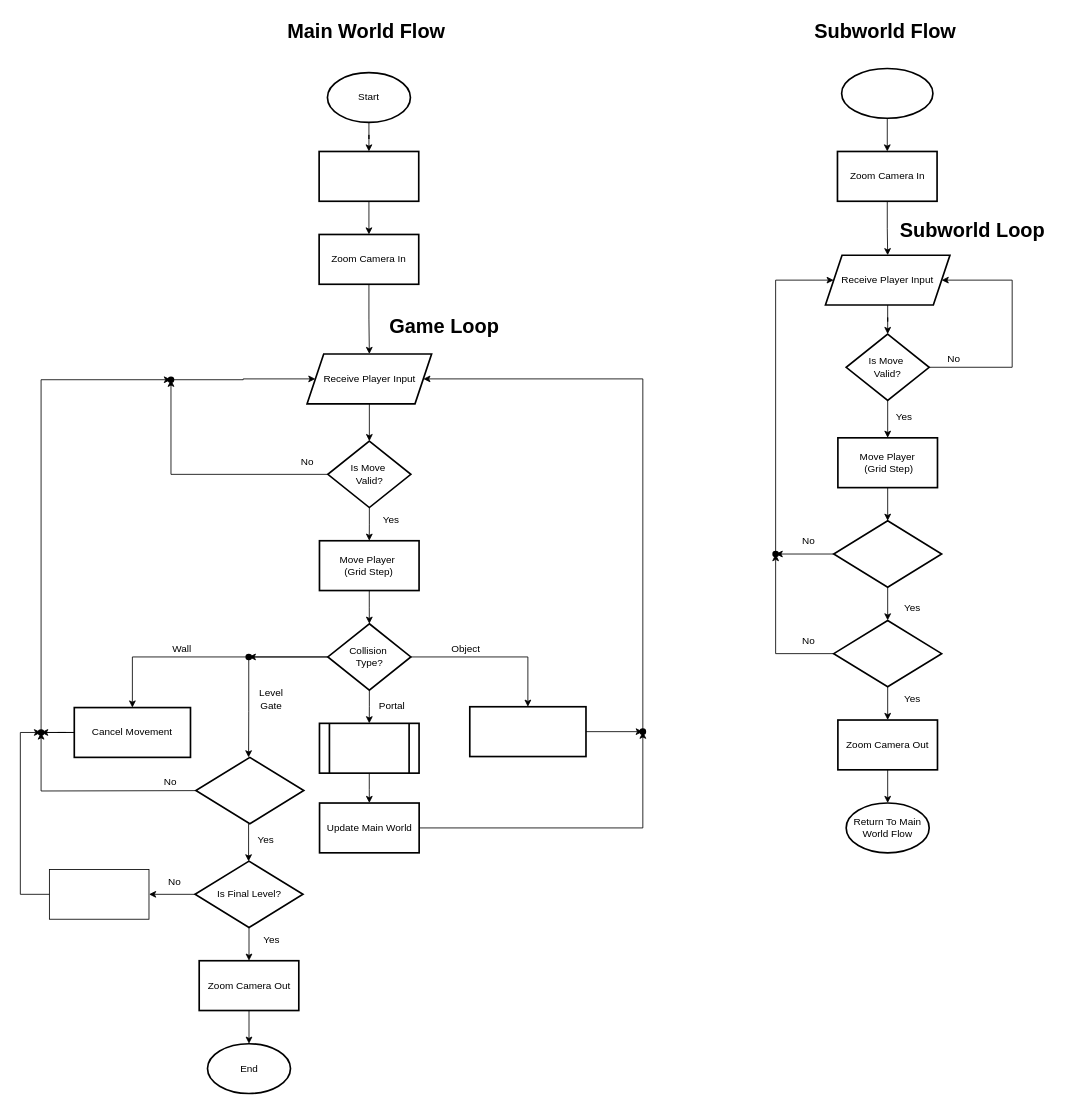
The diagram is 1072 pixels wide and 1108 high, and some of its shapes have lost their labels. The shapes that lost their labels are listed below. From the top down, each one's centre as x and y in pixels, then its label:
At point 886,93: "Enter Subworld".
At point 368,176: "Load Main World".
At point 887,554: "Is Exit Tile?".
At point 887,653: "Is Puzzle Clear".
At point 368,748: "Call Subworld Module".
At point 527,731: "Push Object Logic".
At point 249,790: "Is Main World Clear?".
At point 99,894: "Update Main World to Next Level".
